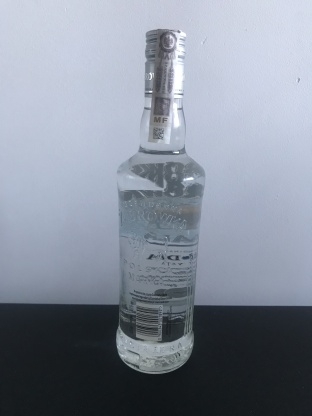nakretka: (142, 24, 188, 103)
